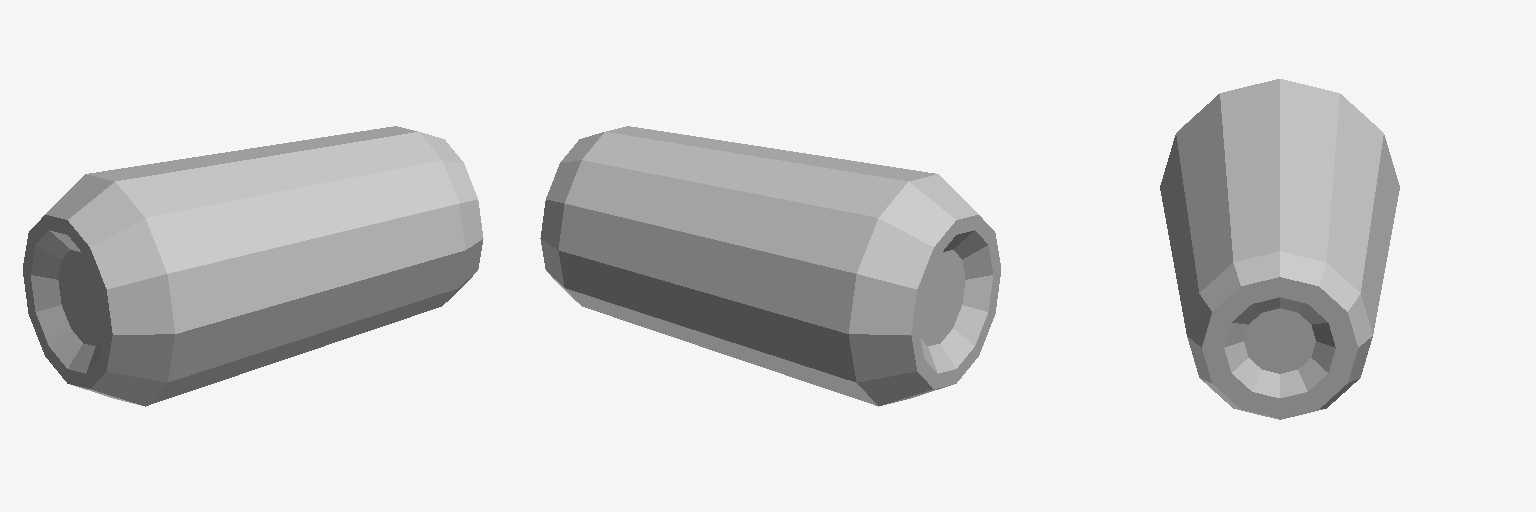
File: dummyupperarm.obj
3 views of the same model, side by side, from view 1: azimuth 30°, elevation 25°; view 2: azimuth 150°, elevation 25°; view 3: azimuth 270°, elevation 25° (orthographic).
Visible parts, largest first — view 1: dummy_hips3_dummy_belly_dummy_torso_dummy_lshoulder_dummy_l.003; view 2: dummy_hips3_dummy_belly_dummy_torso_dummy_lshoulder_dummy_l.003; view 3: dummy_hips3_dummy_belly_dummy_torso_dummy_lshoulder_dummy_l.003.
Part boxes in pixels (left/top/right/bottom): dummy_hips3_dummy_belly_dummy_torso_dummy_lshoulder_dummy_l.003: left=23, top=126, right=483, bottom=406; dummy_hips3_dummy_belly_dummy_torso_dummy_lshoulder_dummy_l.003: left=540, top=126, right=1000, bottom=406; dummy_hips3_dummy_belly_dummy_torso_dummy_lshoulder_dummy_l.003: left=1160, top=79, right=1399, bottom=419.
Bounding box in the file's own units: 23.68 × 13.07 × 13.07.